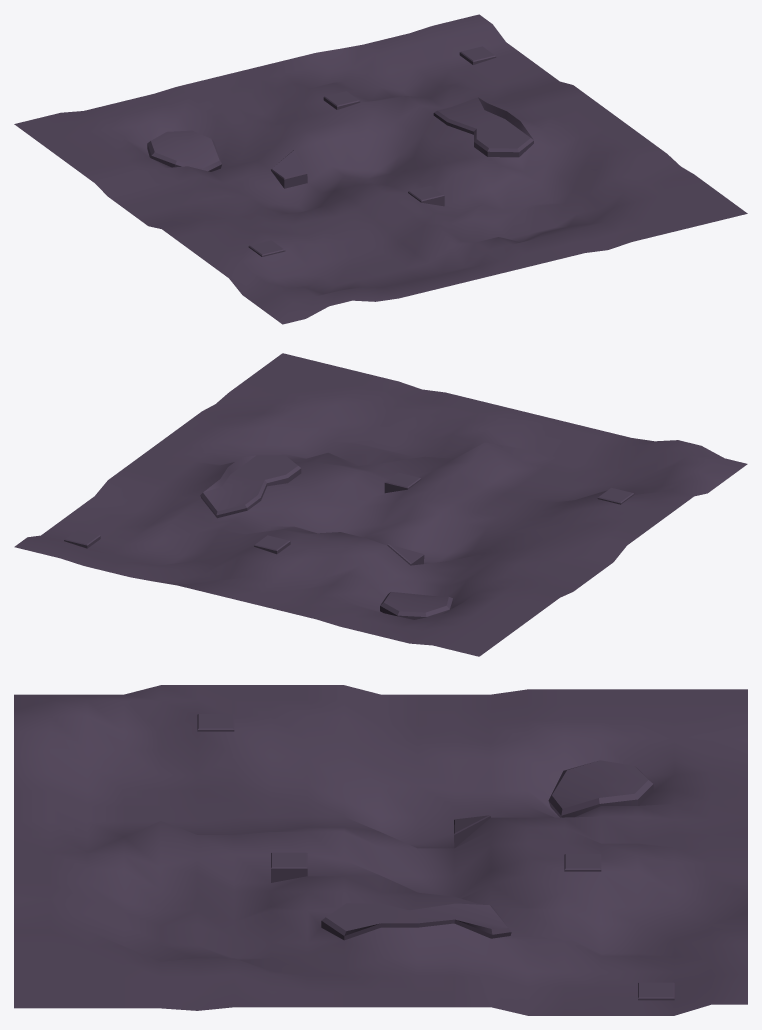
File: floor 1.fbx
3 views of the same model, one above another, from view 1: azimuth 30°, elevation 25°; view 2: azimuth 150°, elevation 25°; view 3: azimuth 270°, elevation 25° (orthographic). The views are drawn at different scales.
Parts seen in each view (by area): view 1: floor:pPlane1; view 2: floor:pPlane1; view 3: floor:pPlane1.
Part boxes in pixels (x1,y1,x2,y2): floor:pPlane1: (14,14,747,324); floor:pPlane1: (14,353,747,656); floor:pPlane1: (14,685,747,1015).
Bounding box in the file's own units: 2.97 × 0.2696 × 2.97.
